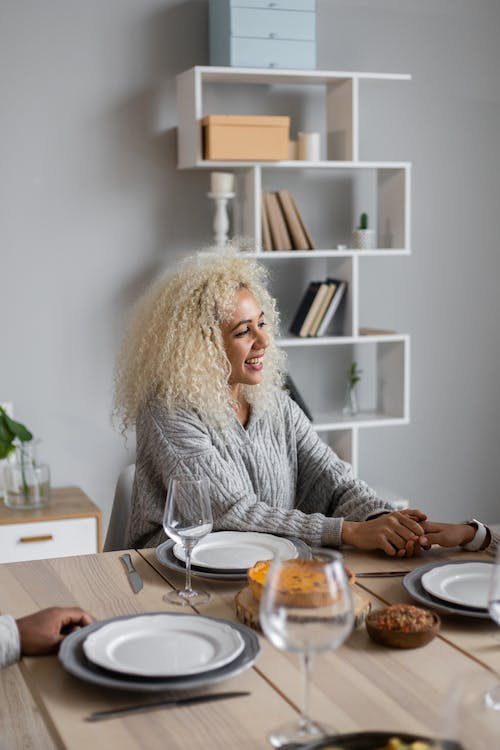knife: (85, 684, 255, 726), (117, 549, 148, 597), (346, 568, 417, 580)
